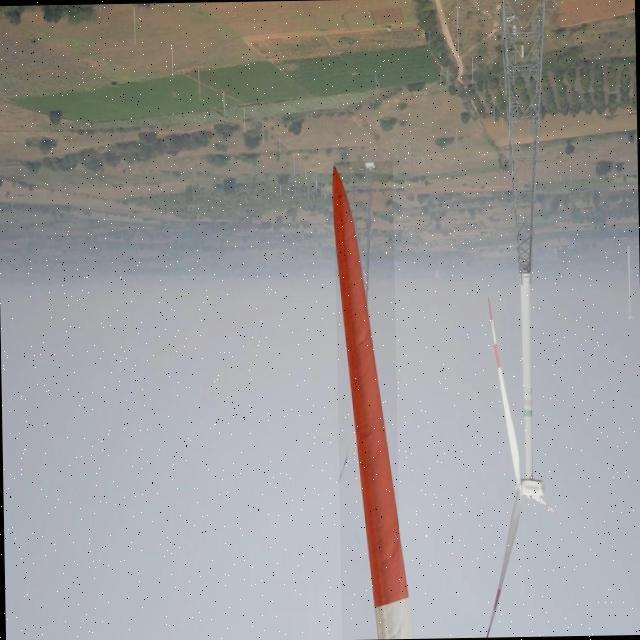Dirt: (333, 162, 406, 638)
